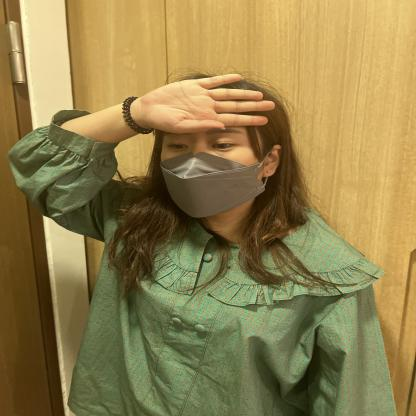Sick: (13, 47, 338, 321)
